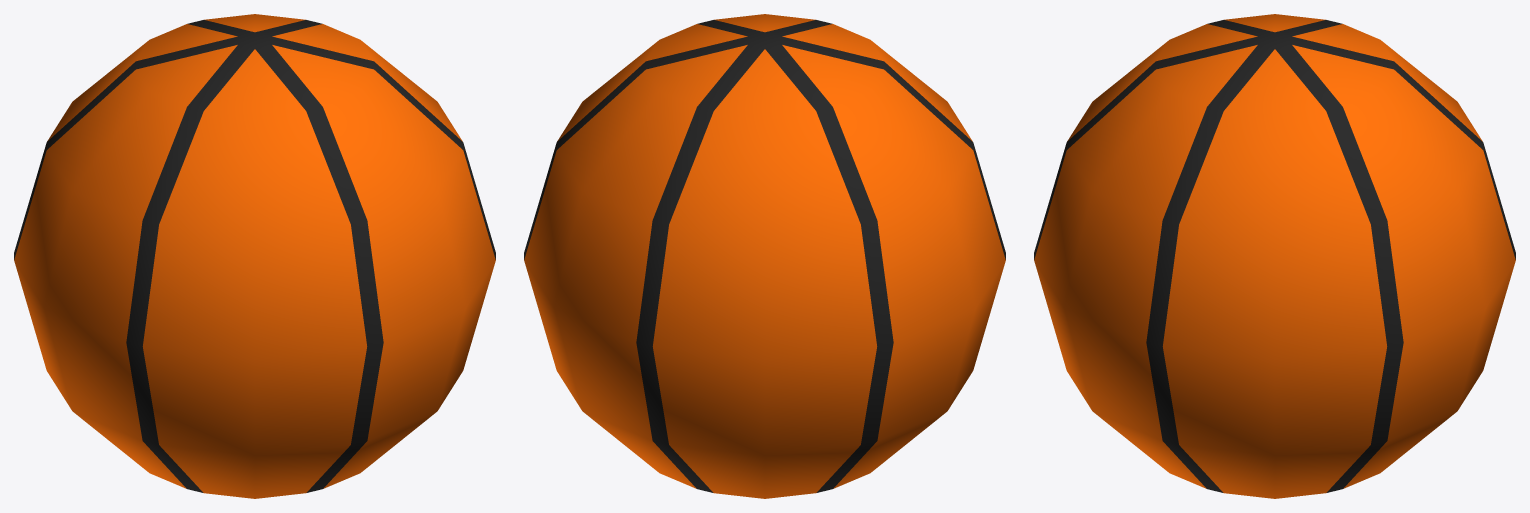
The model's file is bongro1.fbx.
The picture shows the model from 3 angles, left to right: view 1: azimuth 30°, elevation 25°; view 2: azimuth 150°, elevation 25°; view 3: azimuth 270°, elevation 25°; orthographic projection.
Parts seen in each view (by area): view 1: bongro1; view 2: bongro1; view 3: bongro1.
Boxes of the visible parts, x1,y1,x2,y2 form: bongro1: (14,14,495,498); bongro1: (524,14,1005,498); bongro1: (1034,14,1515,498).
Bounding box in the file's own units: 95.04 × 92.99 × 94.04.
